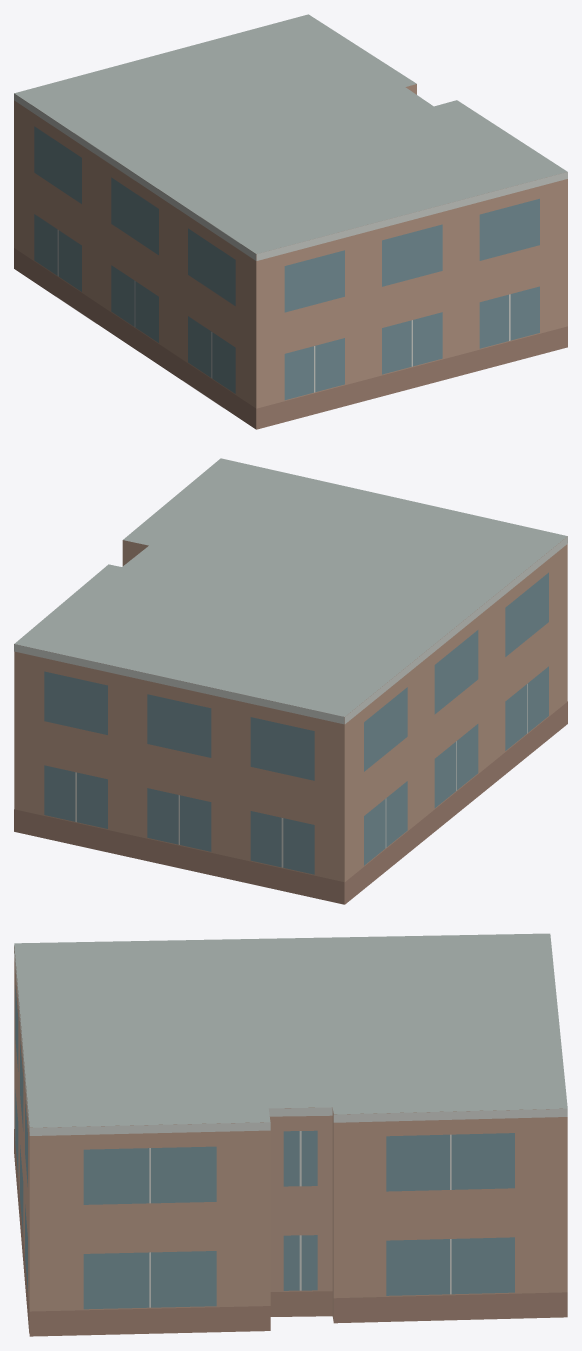
The model's file is survey-upis-32869696.glb.
3 views of the same model, one above another, from view 1: azimuth 30°, elevation 25°; view 2: azimuth 150°, elevation 25°; view 3: azimuth 270°, elevation 25° (orthographic). The views are drawn at different scales.
Visible parts, largest first — view 1: survey-upis-32869696.tmp; view 2: survey-upis-32869696.tmp; view 3: survey-upis-32869696.tmp.
Boxes of the visible parts, box(x1,y1,x2,y2) form: survey-upis-32869696.tmp: box(14, 14, 567, 429); survey-upis-32869696.tmp: box(14, 458, 567, 904); survey-upis-32869696.tmp: box(14, 933, 567, 1336).
Size of the model in its own units: 12.19 by 6.1 by 14.68.
